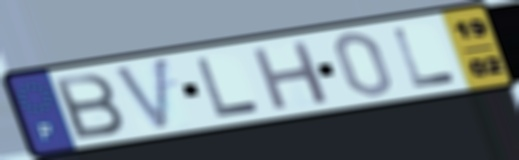0: (330, 30, 395, 99)
B: (49, 70, 128, 142)
H: (248, 38, 333, 114)
L: (389, 25, 460, 90), (192, 56, 264, 120)
V: (110, 54, 171, 134)
